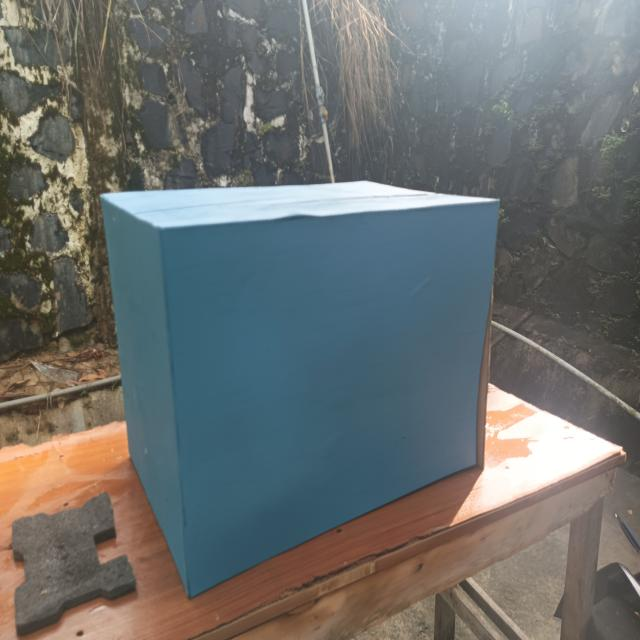blue_box: (100, 171, 496, 593)
